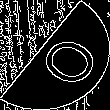O_NW: (17, 23, 93, 87)
